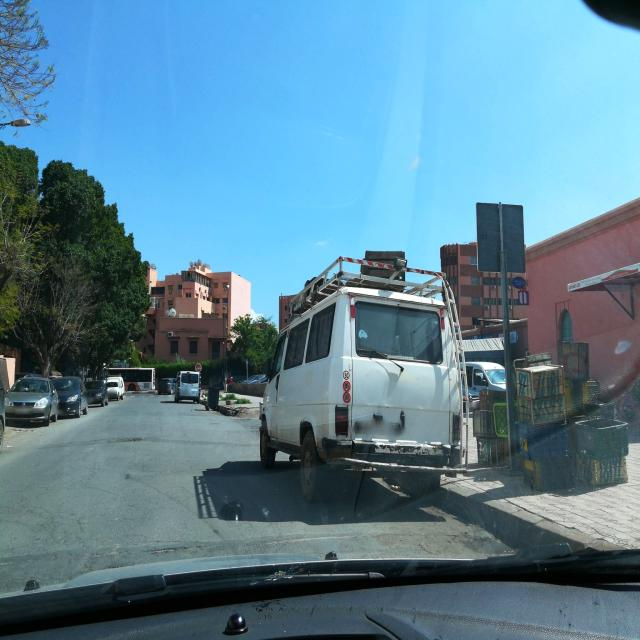car: (258, 268, 466, 501), (4, 375, 59, 427), (464, 360, 513, 404), (51, 375, 89, 418), (174, 369, 201, 404), (84, 379, 109, 407), (105, 378, 123, 401), (157, 377, 176, 395), (242, 374, 268, 385)
